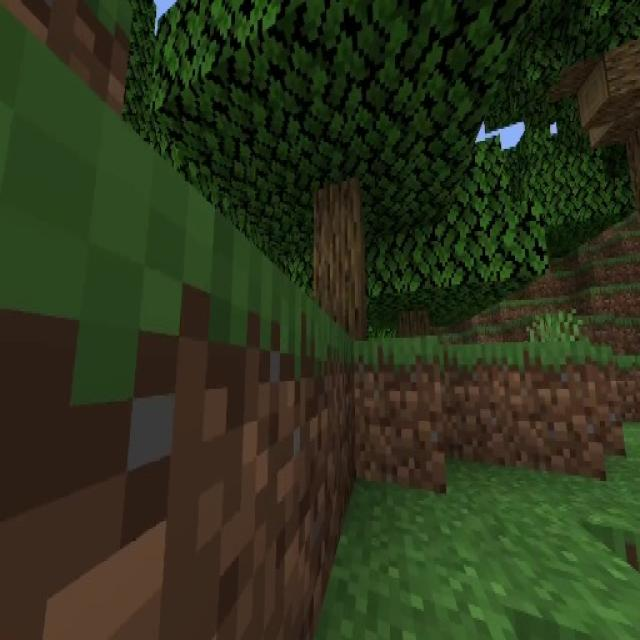oak_log: (311, 180, 366, 336)
